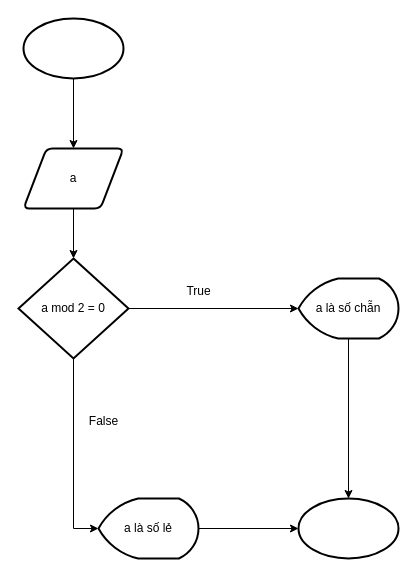
Image size: 416x576. Some labels were removed from this diagram. The shapes that lost their labels are listed below. From the top down, each one's centre as x and y in pixels, then its label:
point 73,48: Start
point 348,528: End.
